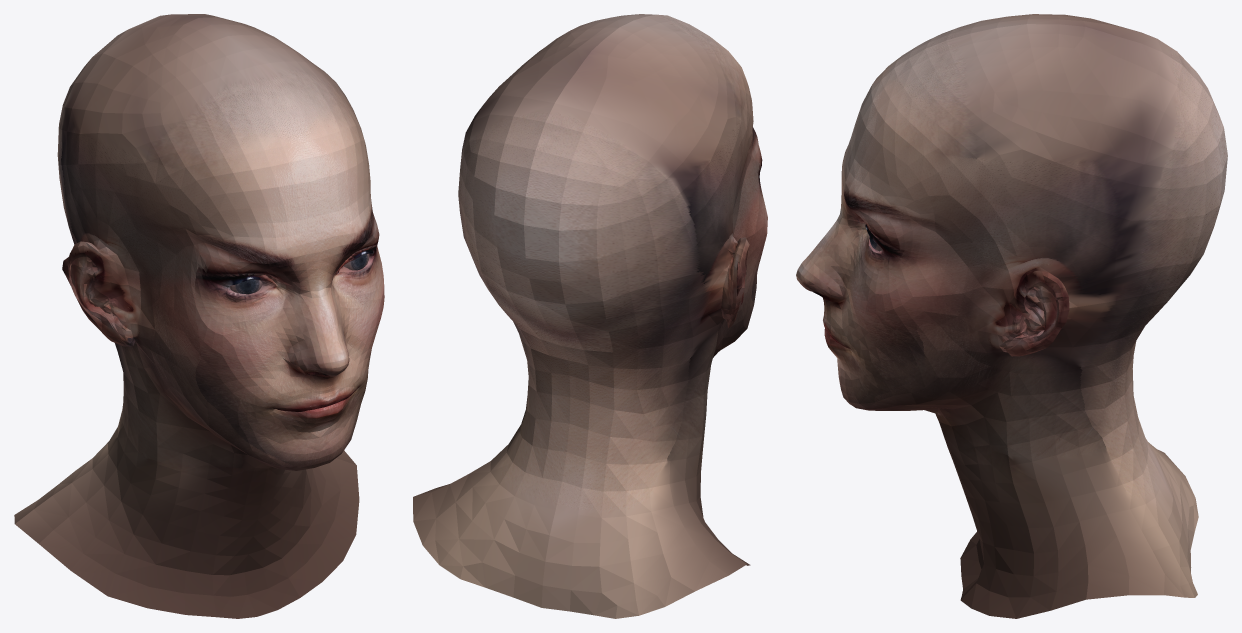
The model's file is dream_head.obj.
3 views of the same model, side by side, from view 1: azimuth 30°, elevation 25°; view 2: azimuth 150°, elevation 25°; view 3: azimuth 270°, elevation 25° (orthographic). The views are drawn at different scales.
Size of the model in its own units: 0.1981 by 0.3259 by 0.2253.
1 material, 1 textured.
